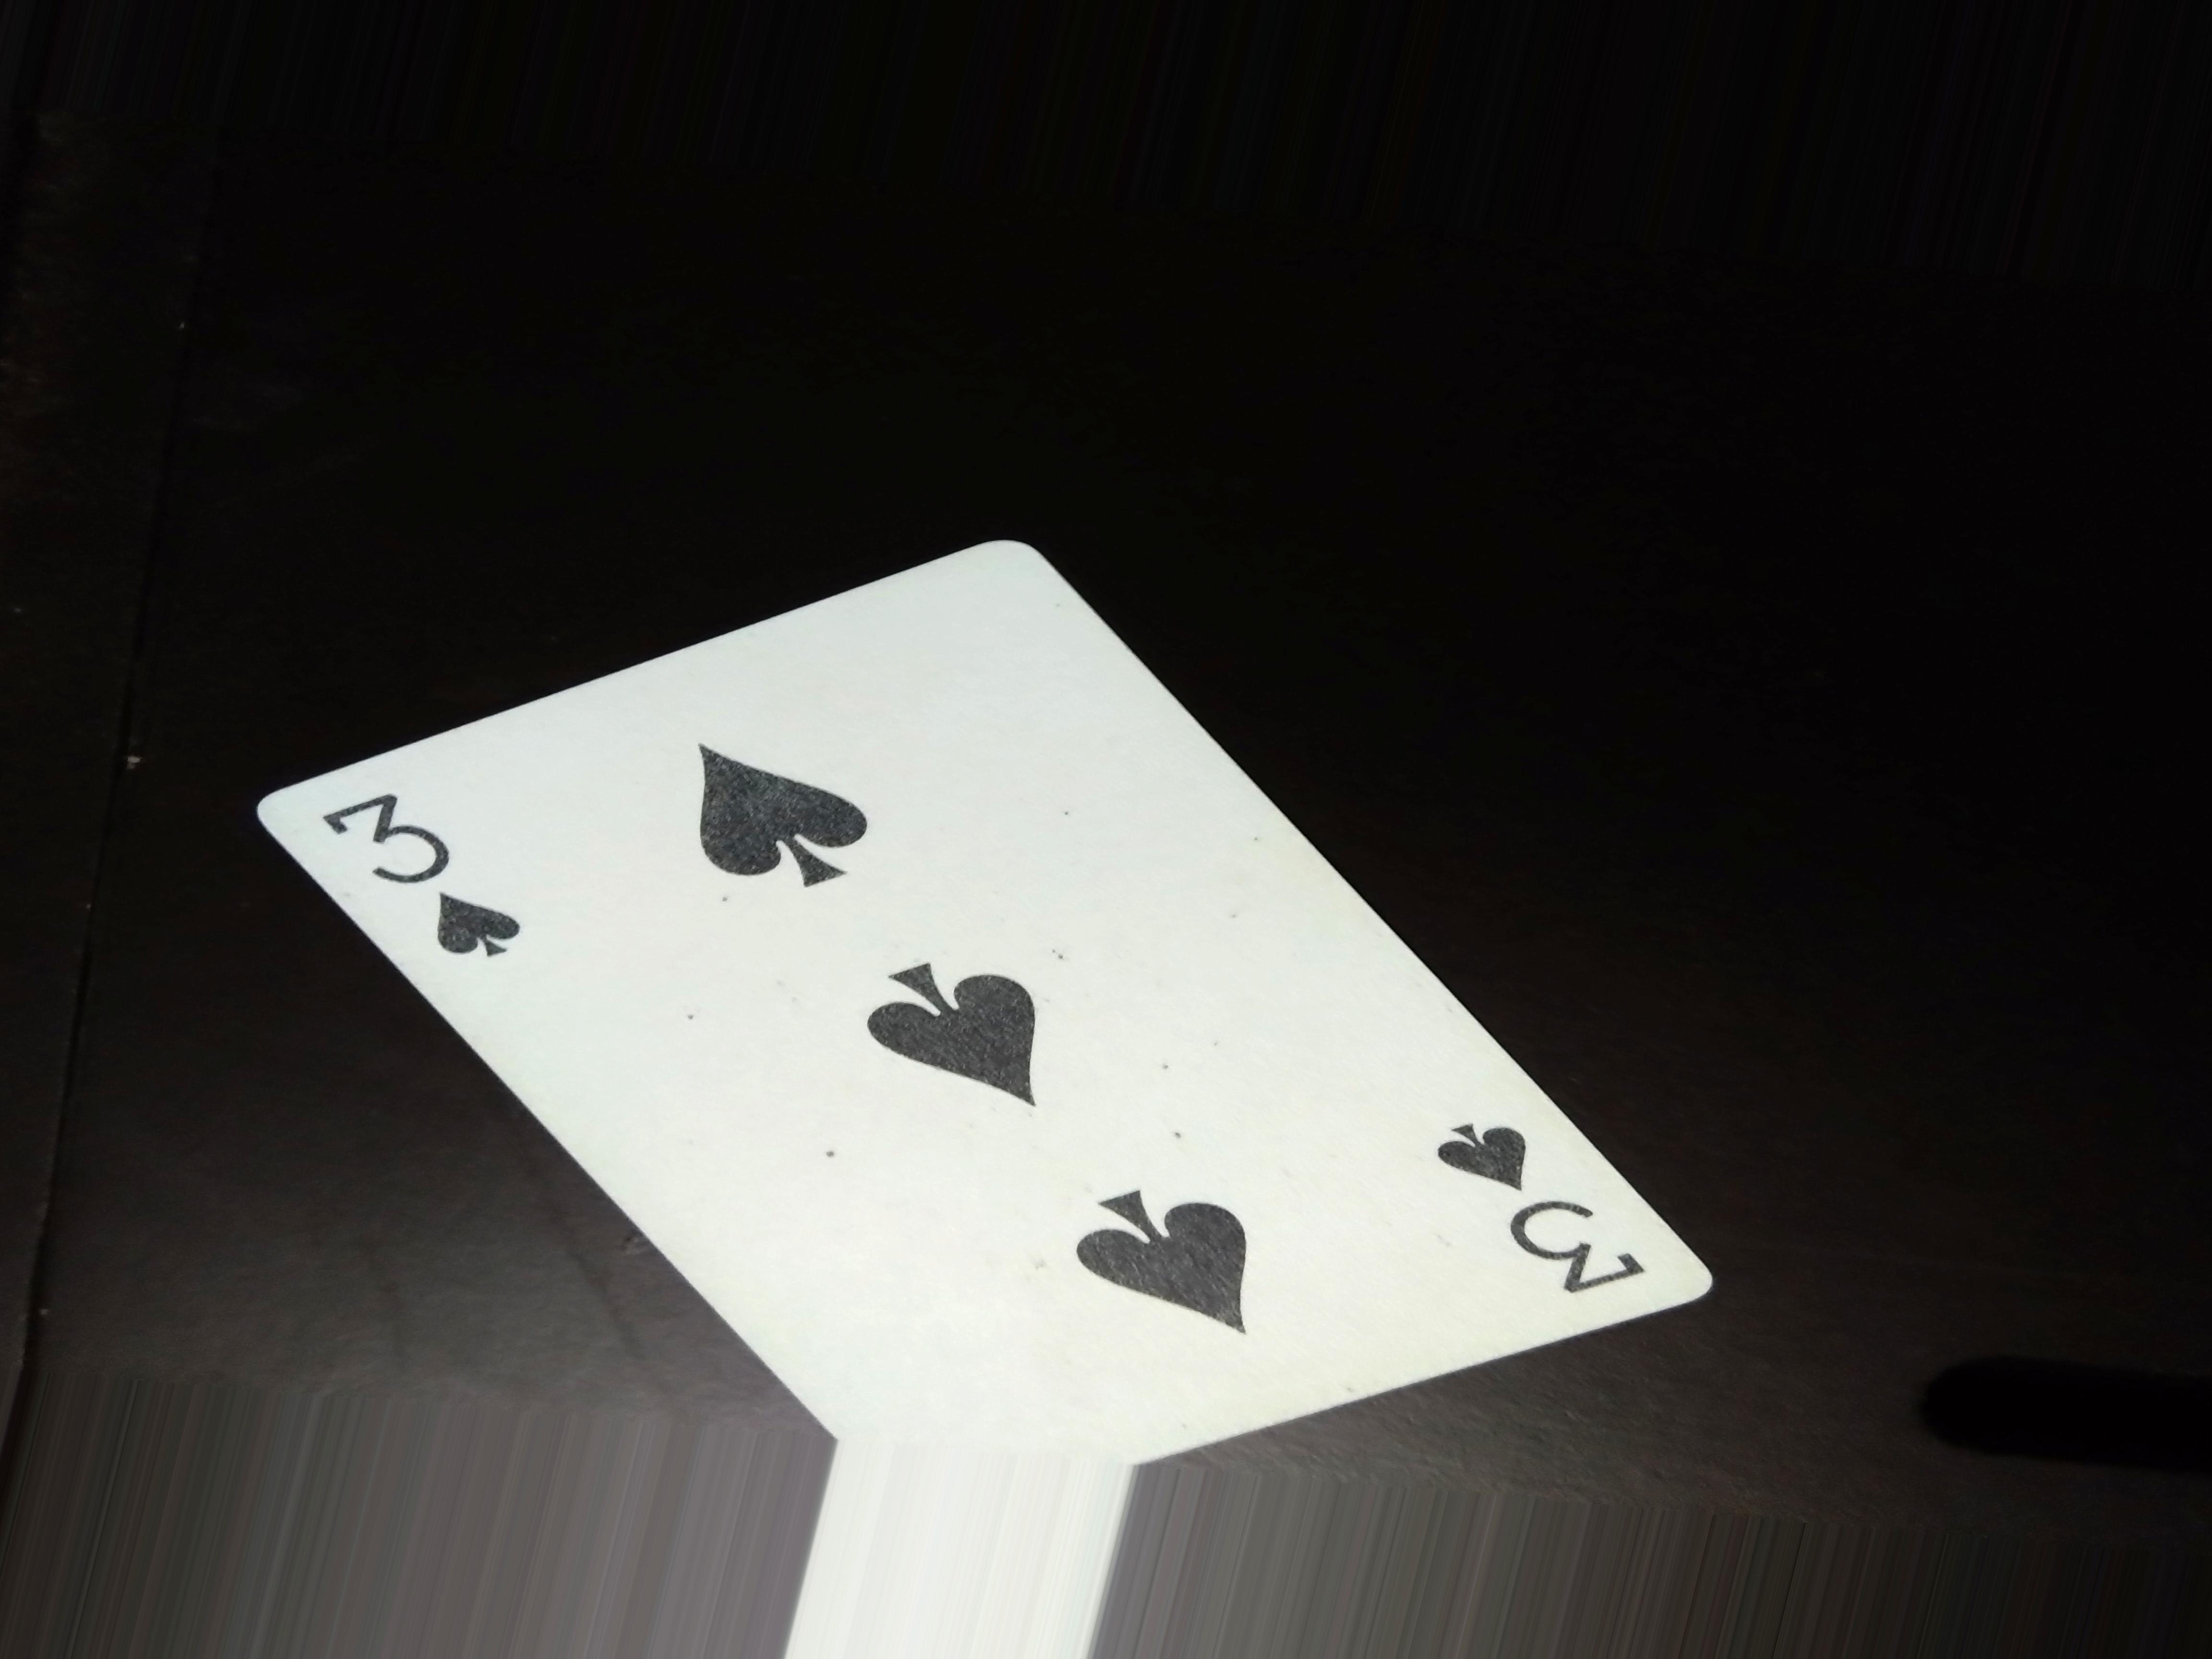3S: (317, 784, 528, 988)
